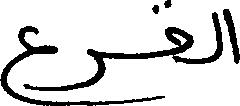X: (0, 21, 55, 105), (68, 44, 104, 105), (166, 0, 191, 68), (224, 4, 239, 68), (214, 7, 222, 65)
